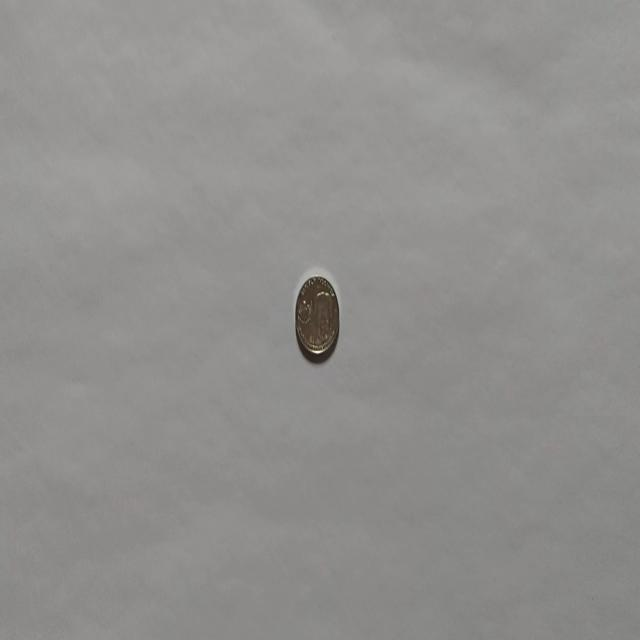seratus rupiah: (294, 272, 340, 358)
